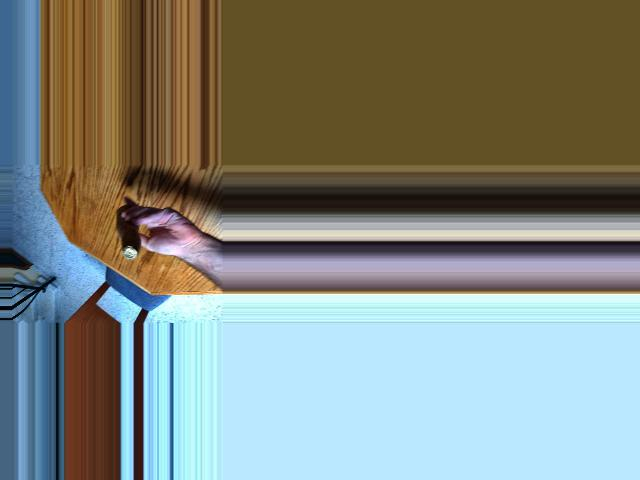sweet_potato: (115, 204, 133, 253)
